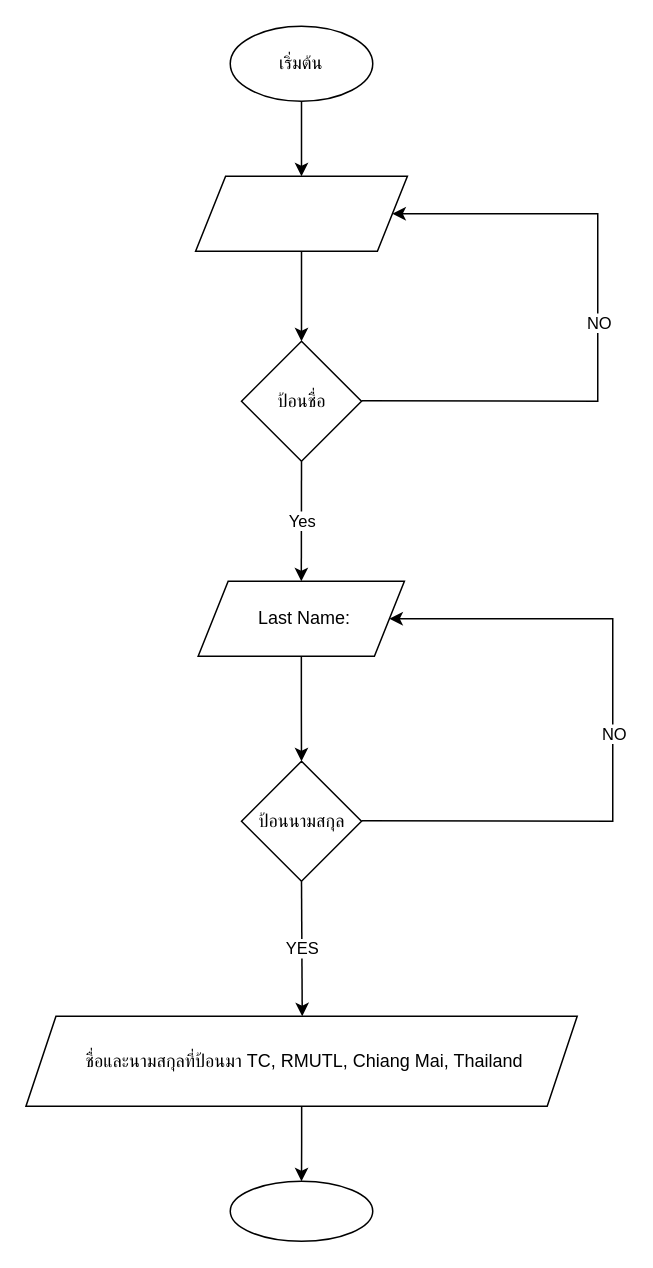
This 653x1268 diagram has some shape labels left out. Here are the shapes that lost their labels. From the top down, the centre of each, then its label:
At (x=300, y=213): "First Name:".
At (x=301, y=1210): "สิ้นสุด".
